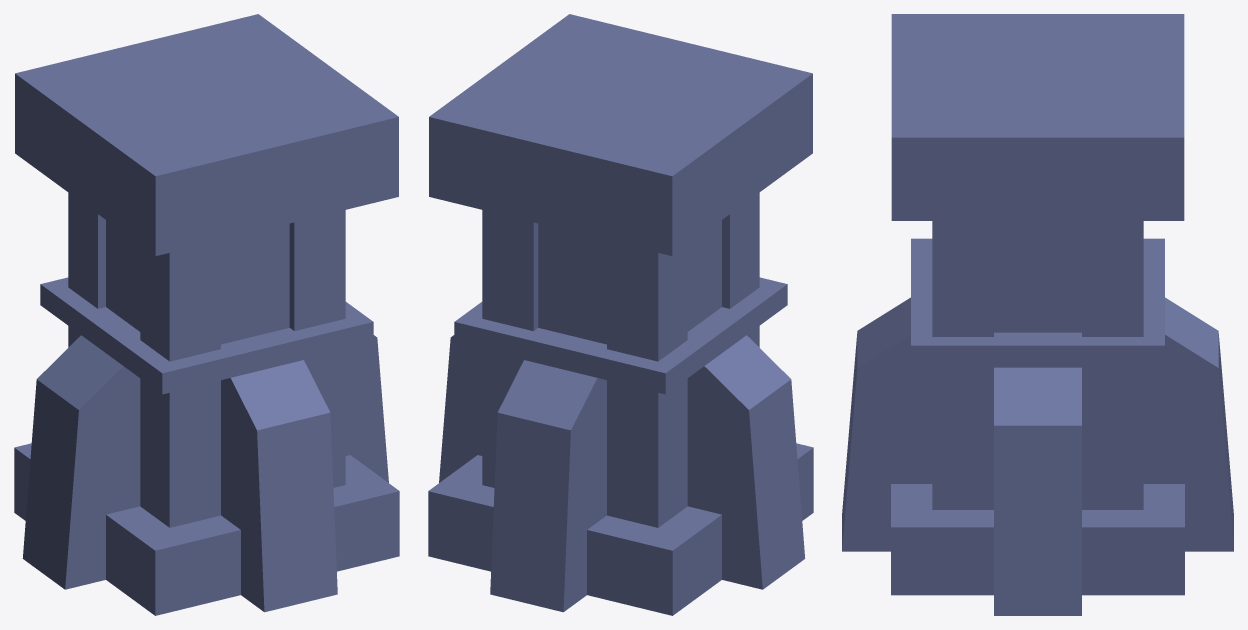
Rendered from column_3_1.fbx.
The picture shows the model from 3 angles, left to right: view 1: azimuth 30°, elevation 25°; view 2: azimuth 150°, elevation 25°; view 3: azimuth 270°, elevation 25°; orthographic projection. The views are drawn at different scales.
Visible parts, largest first — view 1: column_3_1; view 2: column_3_1; view 3: column_3_1.
Boxes of the visible parts, bbox=[...] form: column_3_1: bbox=[14, 14, 399, 615]; column_3_1: bbox=[428, 14, 813, 615]; column_3_1: bbox=[842, 14, 1233, 615].
Size of the model in its own units: 8 by 10.31 by 8.
